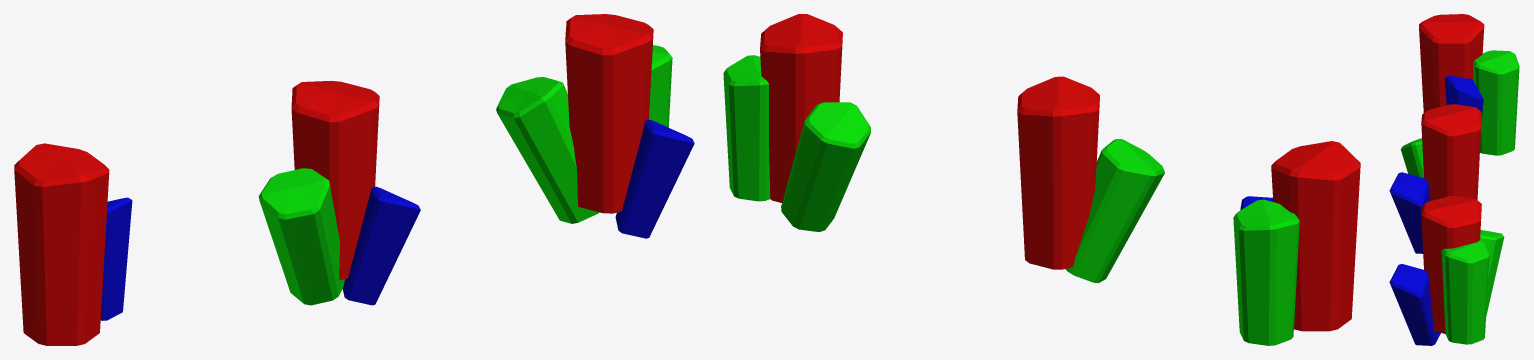
The model's file is IO_Gems.fbx.
The picture shows the model from 3 angles, left to right: view 1: azimuth 30°, elevation 25°; view 2: azimuth 150°, elevation 25°; view 3: azimuth 270°, elevation 25°; orthographic projection. The views are drawn at different scales.
Parts seen in each view (by area): view 1: IO_Gems_02, IO_Gems_01, IO_Gems_00; view 2: IO_Gems_02, IO_Gems_00, IO_Gems_01; view 3: IO_Gems_02, IO_Gems_00, IO_Gems_01.
Part boxes in pixels (x1,y1,x2,y2): IO_Gems_02: (496,14,694,238); IO_Gems_01: (258,81,420,305); IO_Gems_00: (14,143,132,345); IO_Gems_02: (723,14,870,231); IO_Gems_00: (1233,141,1360,345); IO_Gems_01: (1017,76,1164,283); IO_Gems_02: (1389,196,1504,345); IO_Gems_00: (1419,14,1519,155); IO_Gems_01: (1389,104,1481,253).
Size of the model in its own units: 0.5974 by 0.1717 by 0.1501.
